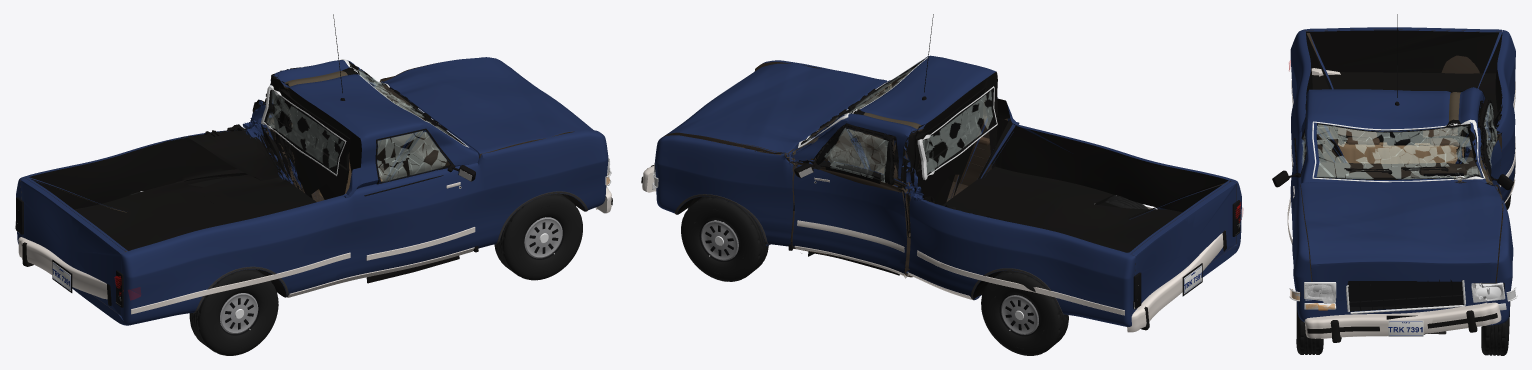
File: pickup87_side_d1.glb
3 views of the same model, side by side, from view 1: azimuth 30°, elevation 25°; view 2: azimuth 150°, elevation 25°; view 3: azimuth 270°, elevation 25° (orthographic). The views are drawn at different scales.
Parts seen in each view (by area): view 1: Body, Hood, Wheel_FR_mesh, Tailgate, Wheel_RR_mesh, Door_FR, Glass, Trim, Trim_FR, Interior, Glass_FR, Bumper_R (+1 smaller); view 2: Body, Hood, Door_FL, Wheel_FL_mesh, Tailgate, Wheel_RL_mesh, Glass, Glass_FL, Trim, Trim_FL, Bumper_R, Interior (+2 smaller); view 3: Body, Hood, Glass, Ends, Interior, Bumper_F, Tailgate, Wheel_FL_mesh, Door_FL, Trim, Glass_FL, Wheel_FR_mesh (+4 smaller).
Part boxes in pixels (box(x1,y1,x2,y2)): Body: box(16, 57, 608, 325); Hood: box(381, 57, 593, 158); Wheel_FR_mesh: box(494, 193, 582, 280); Tailgate: box(20, 178, 125, 315); Wheel_RR_mesh: box(189, 269, 278, 355); Door_FR: box(358, 128, 477, 272); Glass: box(261, 59, 468, 175); Trim: box(131, 14, 587, 314); Trim_FR: box(358, 128, 475, 283); Interior: box(317, 85, 448, 196); Glass_FR: box(376, 131, 450, 184); Bumper_R: box(18, 237, 111, 305); Body: box(655, 55, 1241, 326); Hood: box(660, 63, 886, 157); Door_FL: box(792, 123, 911, 273); Wheel_FL_mesh: box(681, 196, 768, 281); Tailgate: box(1131, 181, 1236, 312); Wheel_RL_mesh: box(981, 270, 1068, 355); Glass: box(798, 57, 997, 180); Glass_FL: box(816, 126, 894, 185); Trim: box(675, 14, 1159, 315); Trim_FL: box(794, 125, 905, 277); Bumper_R: box(1127, 230, 1226, 332); Interior: box(810, 90, 894, 171); Body: box(1290, 29, 1515, 325); Hood: box(1300, 180, 1502, 301); Glass: box(1312, 119, 1485, 182); Ends: box(1289, 279, 1517, 336); Interior: box(1317, 127, 1479, 177); Bumper_F: box(1304, 302, 1501, 342); Tailgate: box(1305, 27, 1502, 73); Wheel_FL_mesh: box(1481, 301, 1510, 355); Door_FL: box(1478, 98, 1501, 190); Trim: box(1291, 14, 1515, 203); Glass_FL: box(1481, 100, 1497, 177); Wheel_FR_mesh: box(1296, 302, 1323, 354).
Size of the model in its own units: 5.02 by 2.5 by 2.13.
Materials: 34 (5 with a texture image).
